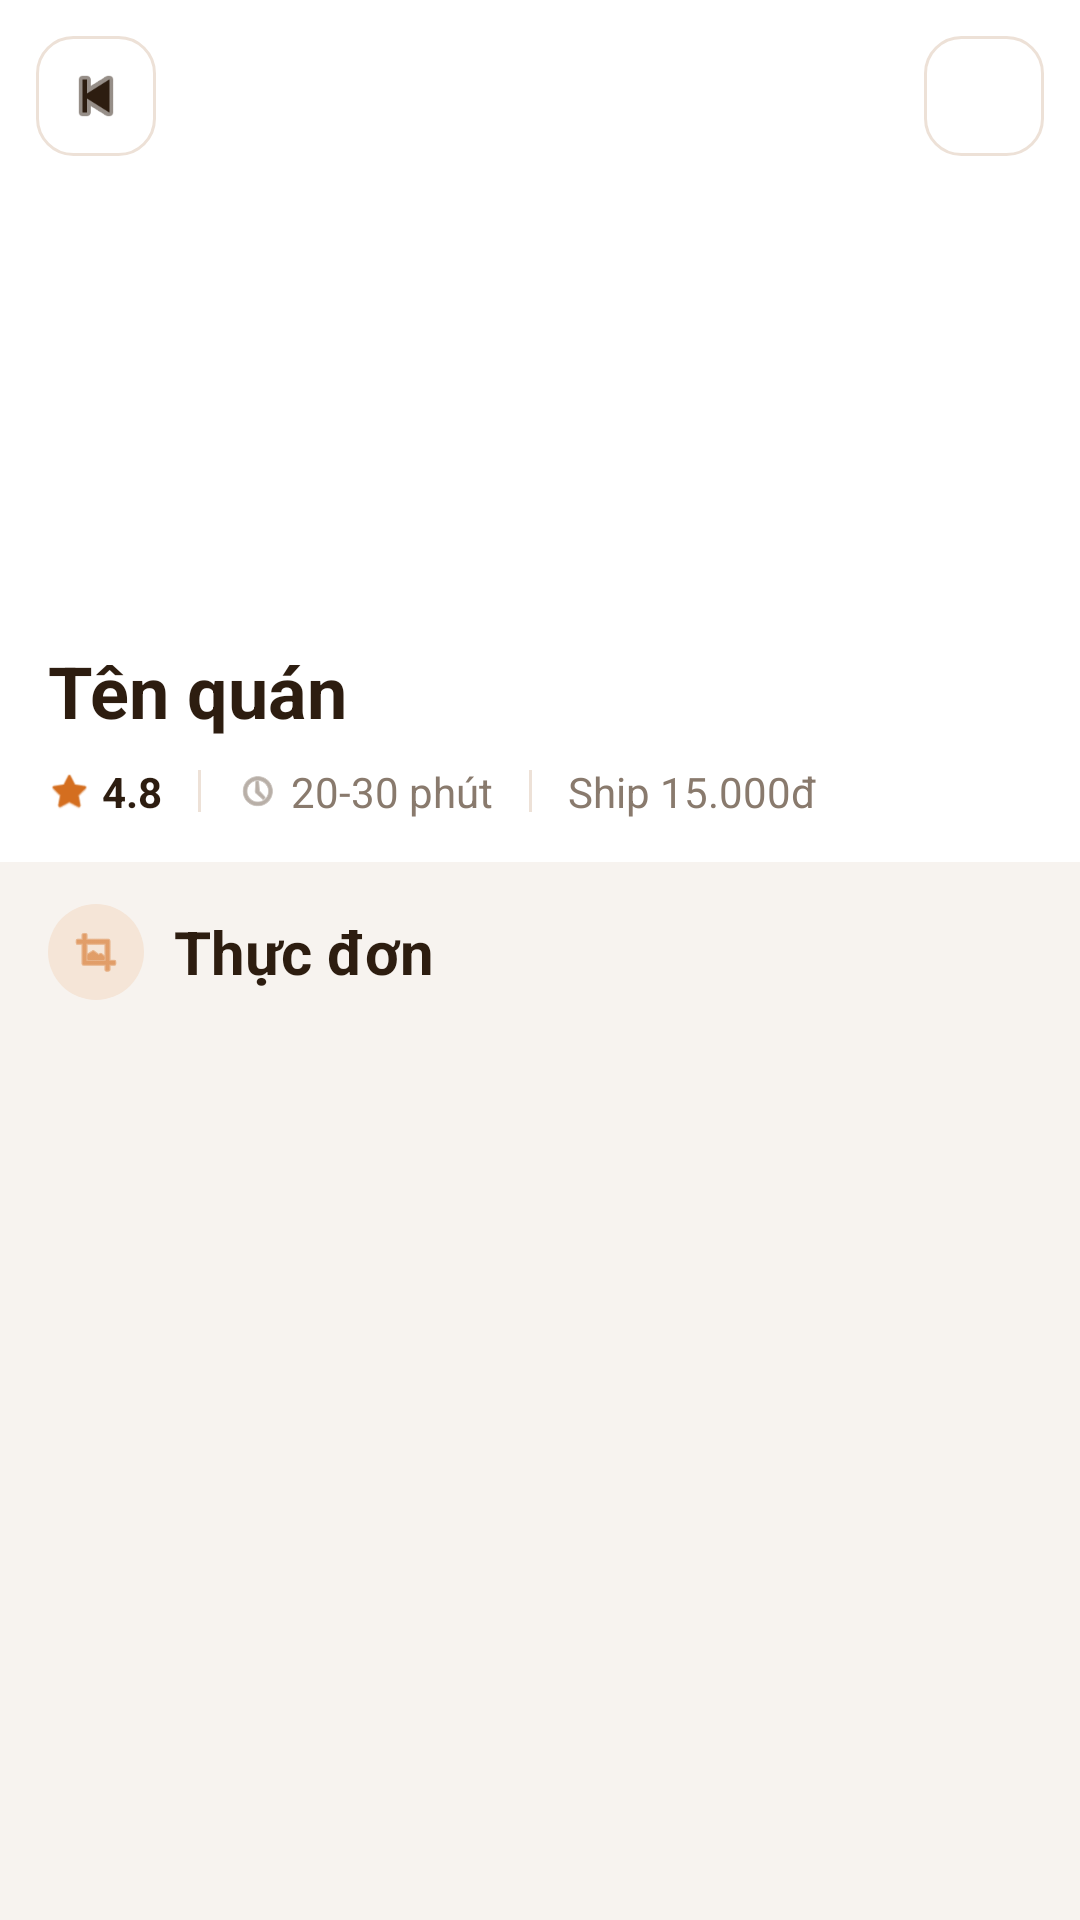

Where to tap for icons on this 1080px x 1920px app screen, as [x,y]:
crop: [96,952]
previous: [96,96]
recent history: [258,791]
star on: [69,791]
